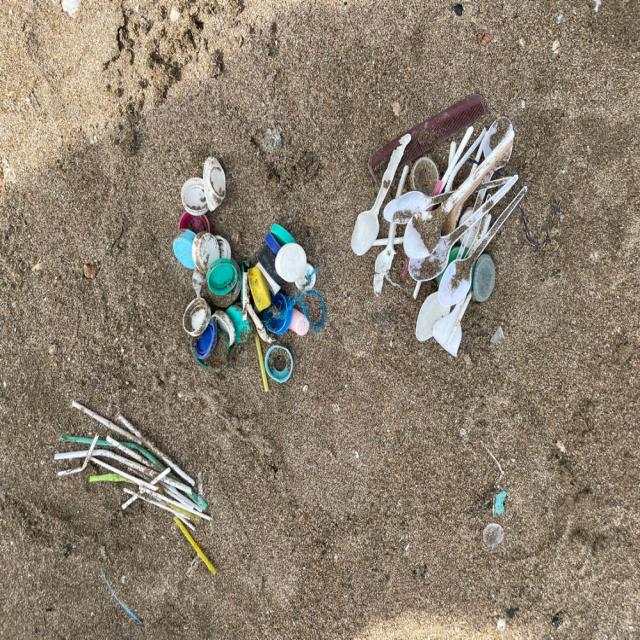plastic: (384, 119, 527, 355), (173, 156, 324, 368), (54, 402, 212, 524), (352, 133, 410, 255)
